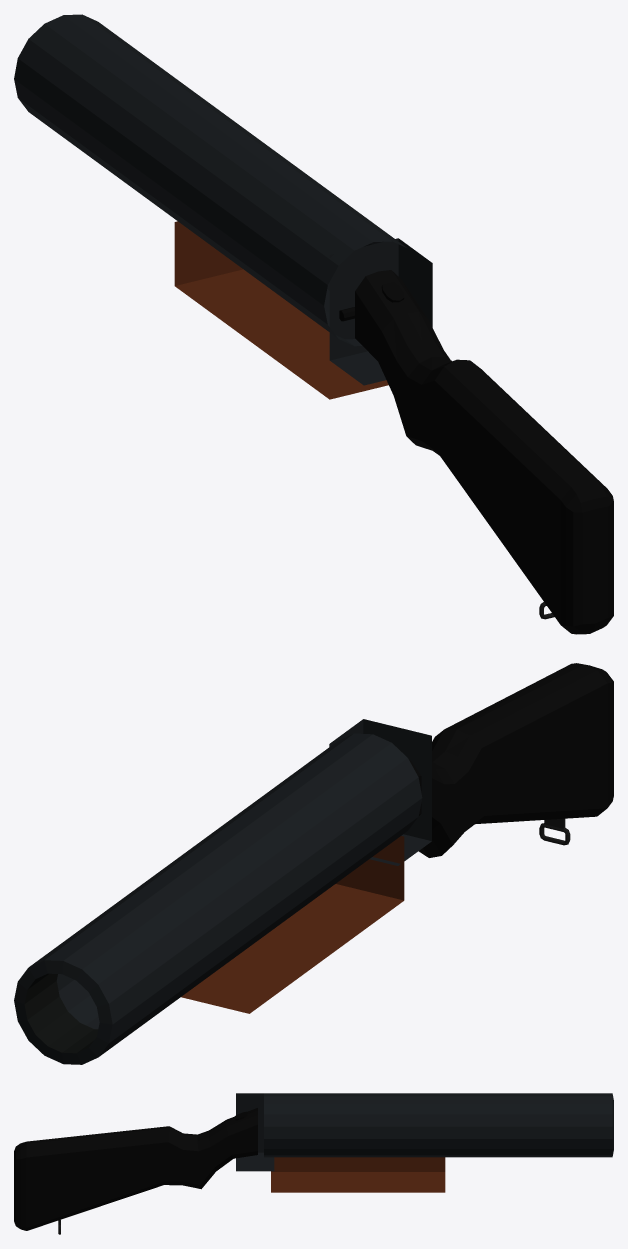
3 views of the same model, one above another, from view 1: azimuth 30°, elevation 25°; view 2: azimuth 150°, elevation 25°; view 3: azimuth 270°, elevation 25° (orthographic). The views are drawn at different scales.
Parts seen in each view (by area): view 1: Barrel, Body; view 2: Barrel, Body; view 3: Barrel, Body.
Boxes of the visible parts, bbox=[...] form: Barrel: bbox=[14, 14, 406, 399]; Body: bbox=[329, 238, 613, 634]; Barrel: bbox=[14, 733, 422, 1064]; Body: bbox=[329, 663, 613, 865]; Barrel: bbox=[264, 1093, 613, 1192]; Body: bbox=[14, 1093, 274, 1234].
Bounding box in the file's own units: 0.092 × 0.215 × 0.8605.
